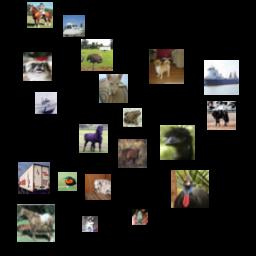bird: (171, 170, 209, 208), (160, 125, 195, 160), (81, 39, 113, 71), (58, 172, 77, 191)
cat: (99, 74, 128, 103)
deer: (118, 139, 147, 168)
dog: (149, 49, 184, 84), (23, 52, 52, 81), (85, 174, 111, 200), (82, 216, 98, 232)
frog: (123, 108, 142, 127), (132, 209, 148, 225)
ship: (204, 60, 239, 95), (63, 15, 85, 37), (35, 92, 57, 114)
truck: (18, 162, 50, 194)
